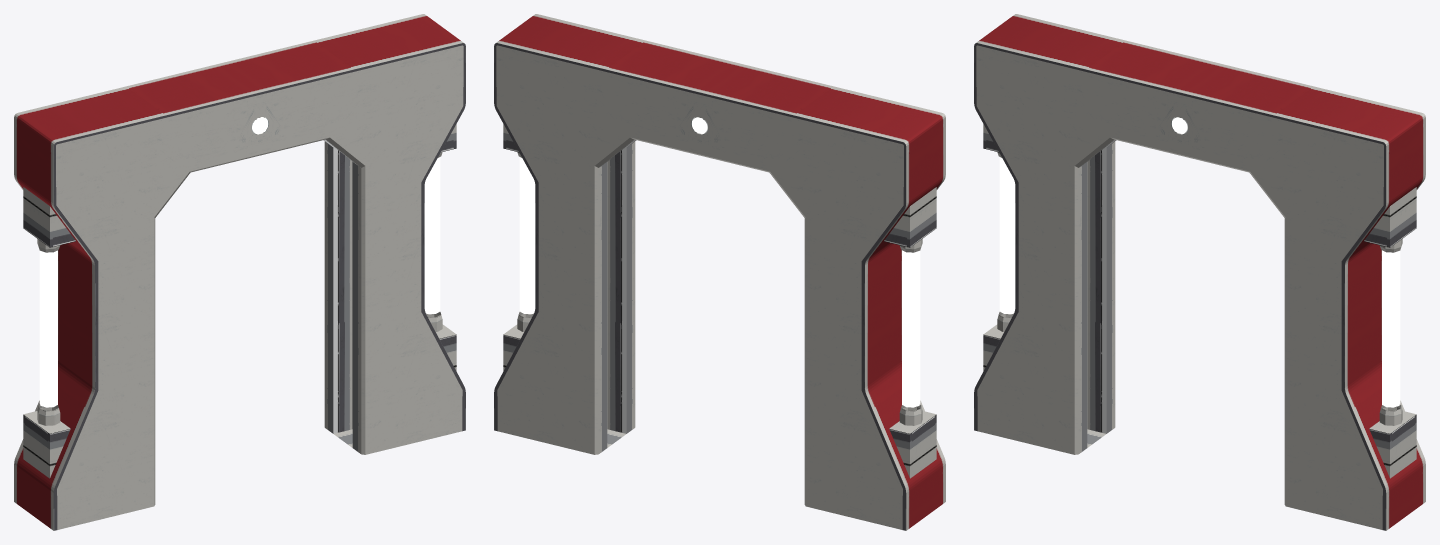
The model's file is G_Env_Arch_DoorBlock_01_Luxury.fbx.
3 renders of one model, left to right at view 1: azimuth 30°, elevation 25°; view 2: azimuth 150°, elevation 25°; view 3: azimuth 330°, elevation 25°, orthographic.
Parts seen in each view (by area): view 1: G_Env_Arch_DoorBlock_01_Luxury; view 2: G_Env_Arch_DoorBlock_01_Luxury; view 3: G_Env_Arch_DoorBlock_01_Luxury.
Part boxes in pixels (bbox=[...]): G_Env_Arch_DoorBlock_01_Luxury: bbox=[14, 14, 465, 530]; G_Env_Arch_DoorBlock_01_Luxury: bbox=[494, 14, 945, 530]; G_Env_Arch_DoorBlock_01_Luxury: bbox=[974, 14, 1425, 530].
Bounding box in the file's own units: 1000 × 900 × 170.
